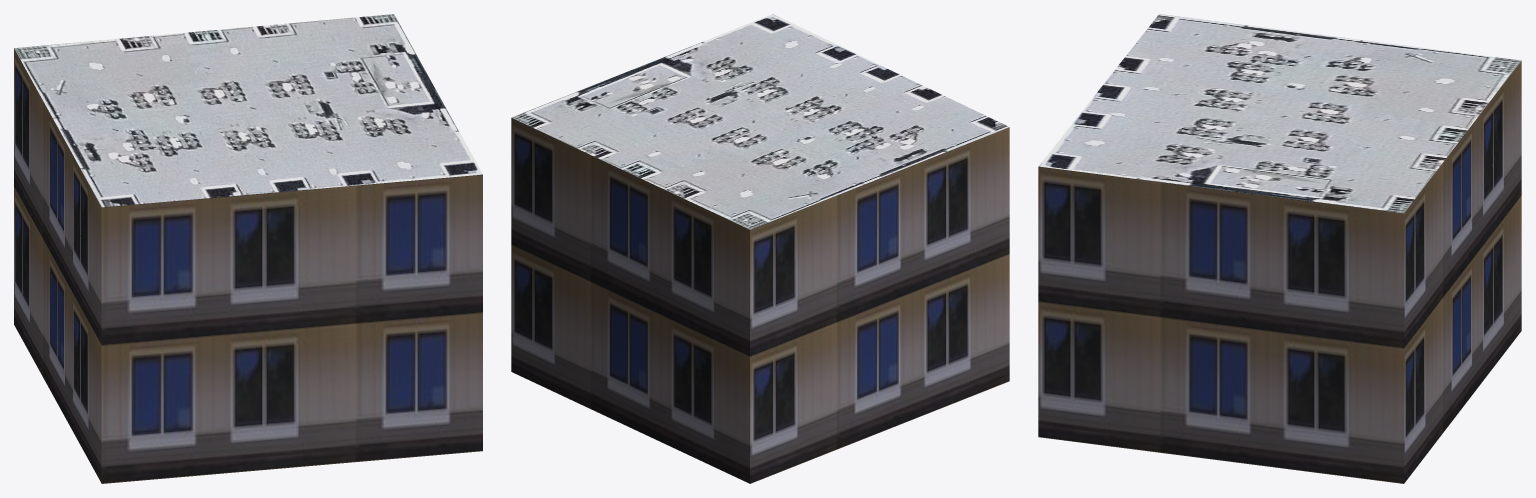
Rendered from ResTex__3135.fbx.
3 views of the same model, side by side, from view 1: azimuth 30°, elevation 25°; view 2: azimuth 150°, elevation 25°; view 3: azimuth 270°, elevation 25° (orthographic). The views are drawn at different scales.
Parts seen in each view (by area): view 1: CityEngineMaterial_5_m, CityEngineMaterial_4_m; view 2: CityEngineMaterial_5_m, CityEngineMaterial_4_m; view 3: CityEngineMaterial_5_m, CityEngineMaterial_4_m.
Part boxes in pixels (<box>): CityEngineMaterial_5_m: <box>14,48,482,483</box>; CityEngineMaterial_4_m: <box>14,14,482,207</box>; CityEngineMaterial_5_m: <box>511,118,1009,483</box>; CityEngineMaterial_4_m: <box>511,14,1009,229</box>; CityEngineMaterial_5_m: <box>1038,61,1521,483</box>; CityEngineMaterial_4_m: <box>1038,14,1521,213</box>.
Bounding box in the file's own units: 9.48 × 6 × 9.71.
2 materials, 2 textured.
